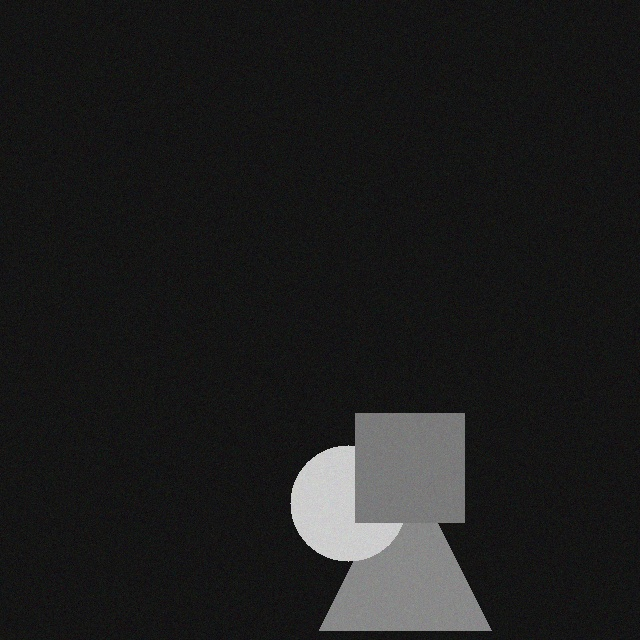circle: (279, 446, 395, 562)
square: (344, 414, 453, 523)
triangle: (308, 459, 480, 631)
